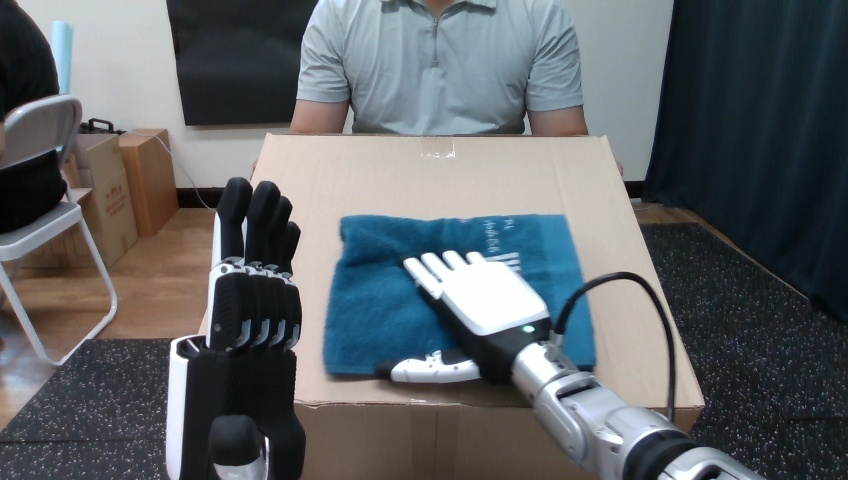left robot hand: (377, 250, 762, 479), (166, 178, 305, 478), (561, 279, 669, 416)
